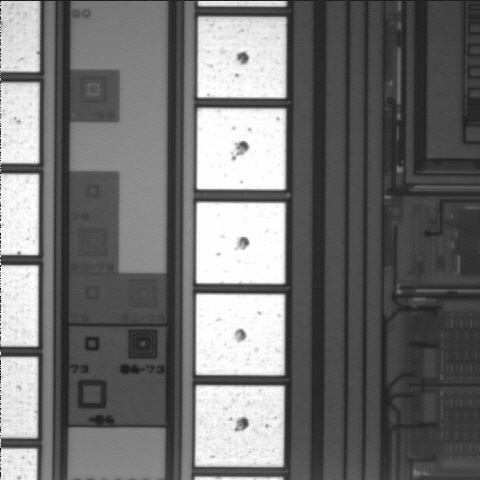pad: (197, 108, 286, 190), (196, 202, 285, 284), (195, 385, 284, 467), (197, 17, 286, 98), (196, 294, 285, 375)
